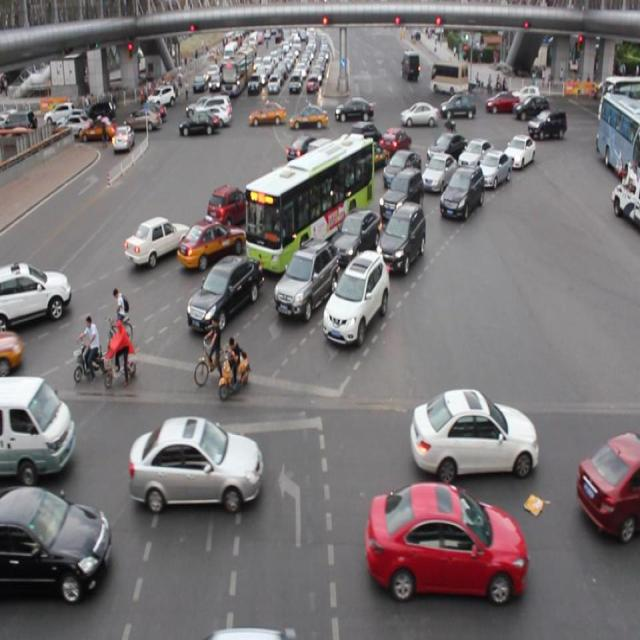car: (364, 481, 526, 598), (129, 414, 263, 506), (1, 486, 109, 594), (410, 386, 537, 474), (576, 429, 640, 539), (323, 249, 388, 345), (187, 257, 263, 330), (274, 238, 335, 318), (1, 261, 69, 324), (376, 201, 424, 271), (177, 220, 244, 268), (125, 216, 189, 265), (328, 208, 379, 265), (438, 164, 482, 220), (378, 167, 423, 218), (267, 190, 315, 232), (206, 184, 254, 226), (258, 165, 306, 205), (316, 165, 361, 204), (382, 149, 421, 192), (420, 152, 456, 192), (426, 132, 465, 167), (476, 150, 510, 188), (458, 136, 492, 173), (502, 134, 535, 172), (346, 122, 381, 157), (286, 134, 320, 169), (352, 138, 387, 170), (378, 128, 410, 158)
truck: (0, 374, 74, 476), (303, 140, 347, 182)
van: (245, 137, 375, 270)
